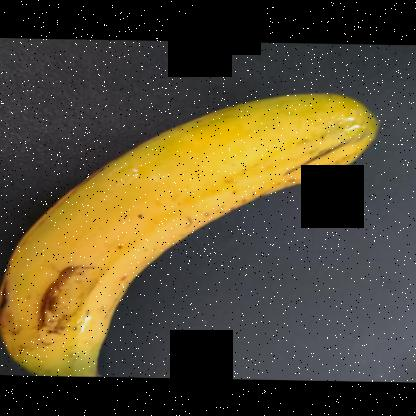ripe: (8, 55, 408, 369)
